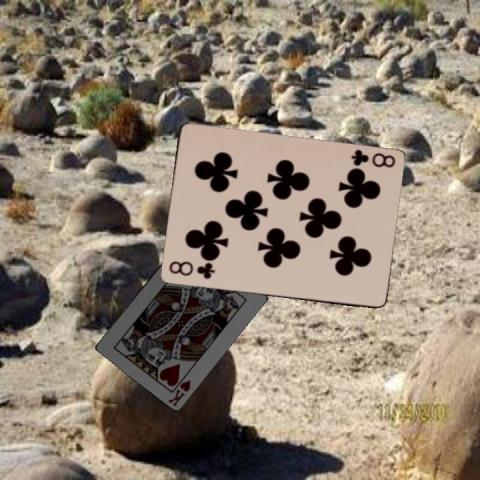8c: (165, 258, 216, 281), (348, 147, 397, 169)
Kh: (165, 376, 192, 407)
